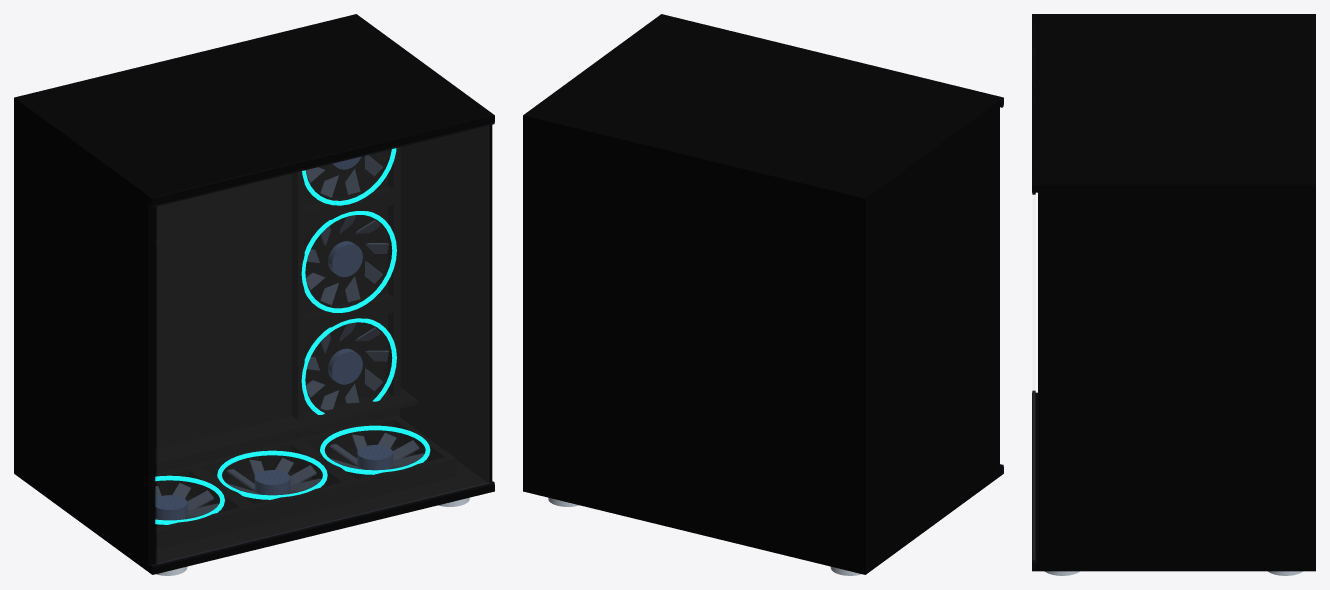
The model's file is corsair-4000d-airflow.glb.
3 renders of one model, left to right at view 1: azimuth 30°, elevation 25°; view 2: azimuth 150°, elevation 25°; view 3: azimuth 270°, elevation 25°, orthographic. The views are drawn at different scales.
Visible parts, largest first — view 1: ChassisTop, ChassisRearIO, MotherboardTray, FrontMeshPanel, ChassisBottom, SideFanBracketWall, PsuShroudDeck, BottomFan_2_BotBar, BottomFan_1_BotBar, BottomFan_0_BotBar, RGB_SideFan_1_FrontRing, ChassisBack (+27 smaller); view 2: ChassisBack, ChassisTop, ChassisRearIO, ChassisBottom; view 3: FrontMeshPanel, ChassisTop, ChassisBottom, ChassisBack, GlassBorder_Bottom, GlassBorder_Top.
Part boxes in pixels (<box>): ChassisTop: <box>14,14,494,205</box>; ChassisRearIO: <box>18,108,155,564</box>; MotherboardTray: <box>155,173,311,473</box>; FrontMeshPanel: <box>400,125,492,482</box>; ChassisBottom: <box>14,445,494,574</box>; SideFanBracketWall: <box>287,150,399,438</box>; PsuShroudDeck: <box>155,388,417,468</box>; BottomFan_2_BotBar: <box>350,455,456,501</box>; BottomFan_1_BotBar: <box>247,480,353,526</box>; BottomFan_0_BotBar: <box>155,506,250,550</box>; RGB_SideFan_1_FrontRing: <box>301,211,396,312</box>; ChassisBack: <box>14,105,17,468</box>; ChassisBack: <box>523,122,869,567</box>; ChassisTop: <box>523,14,1003,205</box>; ChassisRearIO: <box>869,108,999,564</box>; ChassisBottom: <box>523,467,1003,574</box>; FrontMeshPanel: <box>1038,192,1309,564</box>; ChassisTop: <box>1032,14,1315,192</box>; ChassisBottom: <box>1032,392,1315,571</box>; ChassisBack: <box>1310,192,1315,563</box>; GlassBorder_Bottom: <box>1032,390,1035,570</box>; GlassBorder_Top: <box>1032,14,1035,194</box>.
Bounding box in the file's own units: 4.01 × 4.32 × 2.8.
Materials: 10 (5 with a texture image).
